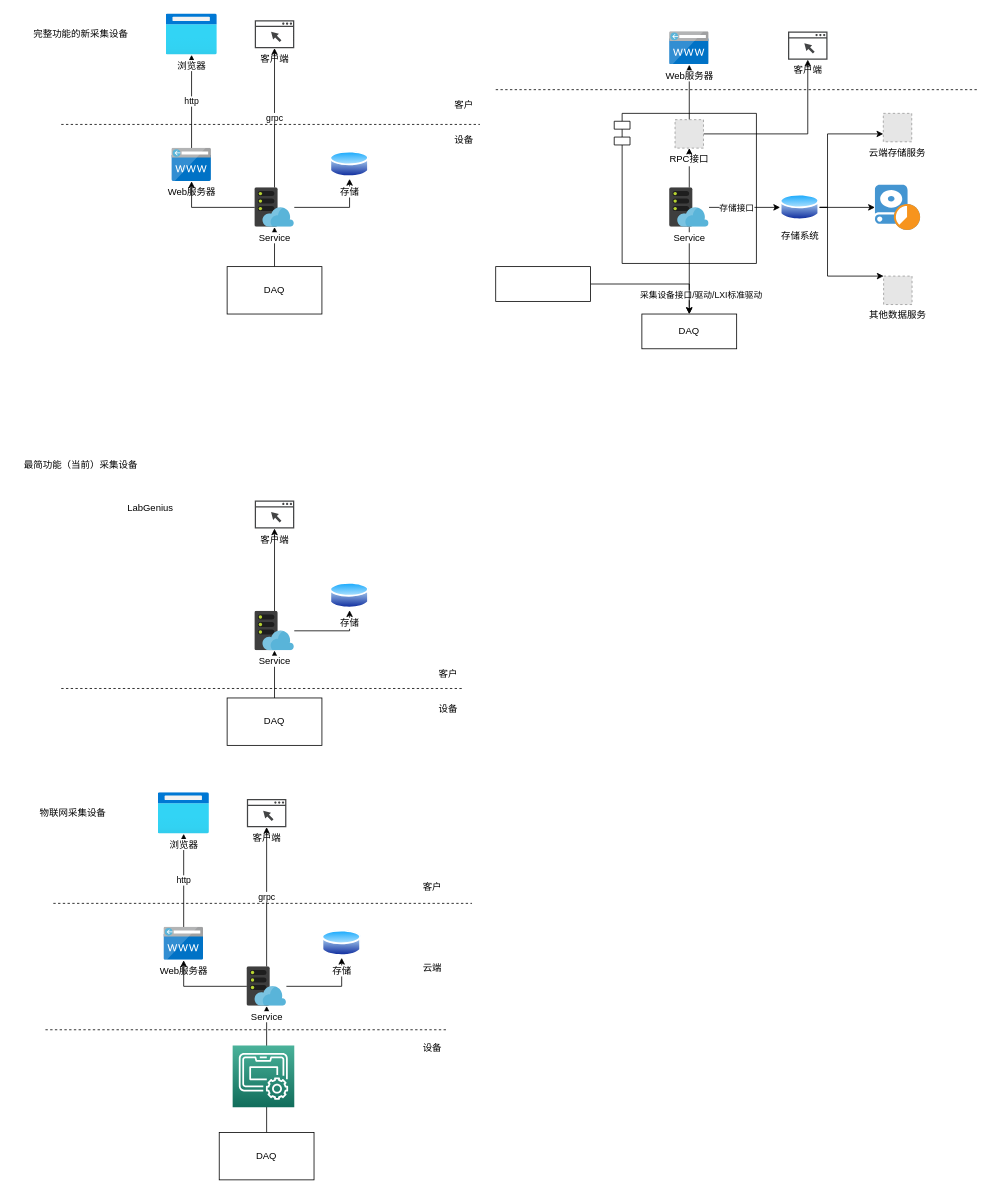
Image size: 992x1194. Some labels were removed from this diagram. Grey dashed boxes stand in for pictures. Each missing label, with the centre of its shape:
LXI Web: [543,283]
本地文件系统: [897,207]
边缘计算模块: [263,1076]
